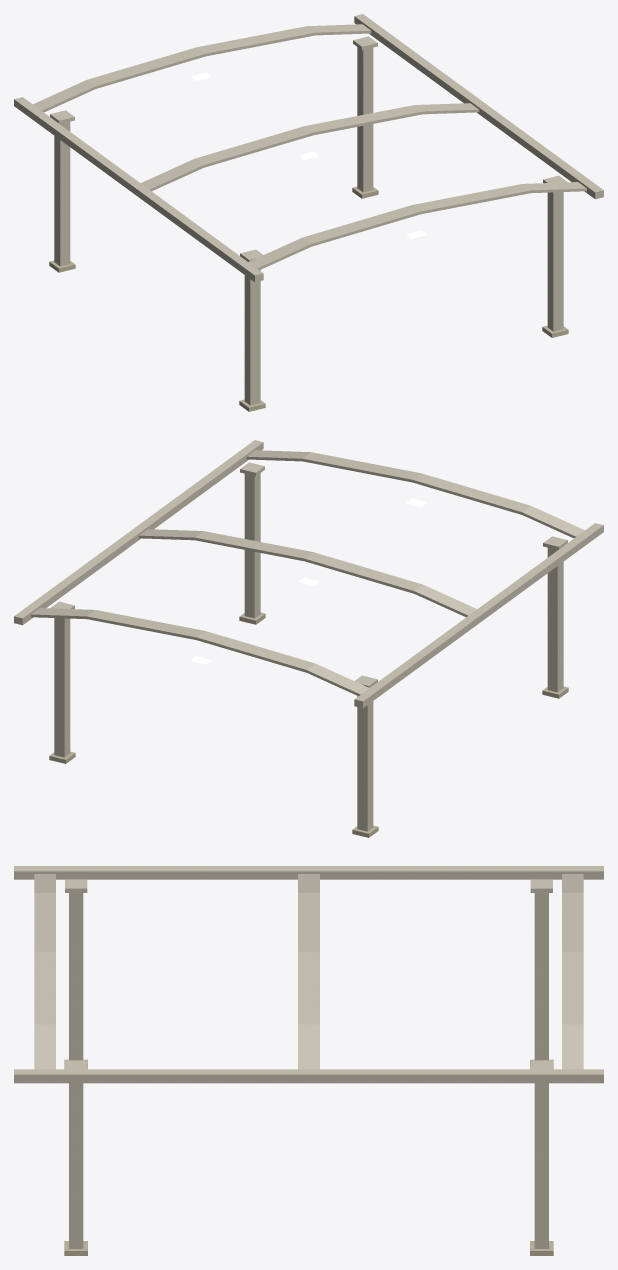
File: COURT_D09_SF_04__shell.glb
3 views of the same model, one above another, from view 1: azimuth 30°, elevation 25°; view 2: azimuth 150°, elevation 25°; view 3: azimuth 270°, elevation 25° (orthographic). The views are drawn at different scales.
Visible parts, largest first — view 1: COURT_D09_SF_04__shell__ivory_enamel, COURT_D09_SF_04__shell__warm_stone; view 2: COURT_D09_SF_04__shell__ivory_enamel, COURT_D09_SF_04__shell__warm_stone; view 3: COURT_D09_SF_04__shell__ivory_enamel, COURT_D09_SF_04__shell__warm_stone.
Part boxes in pixels (x1,y1,x2,y2): COURT_D09_SF_04__shell__ivory_enamel: [14, 14, 603, 405]; COURT_D09_SF_04__shell__warm_stone: [49, 186, 568, 411]; COURT_D09_SF_04__shell__ivory_enamel: [14, 440, 603, 831]; COURT_D09_SF_04__shell__warm_stone: [49, 612, 568, 837]; COURT_D09_SF_04__shell__ivory_enamel: [14, 866, 603, 1248]; COURT_D09_SF_04__shell__warm_stone: [64, 1059, 553, 1255].
Size of the model in its own units: 15.9 by 7.42 by 19.
3 materials, 2 textured.
